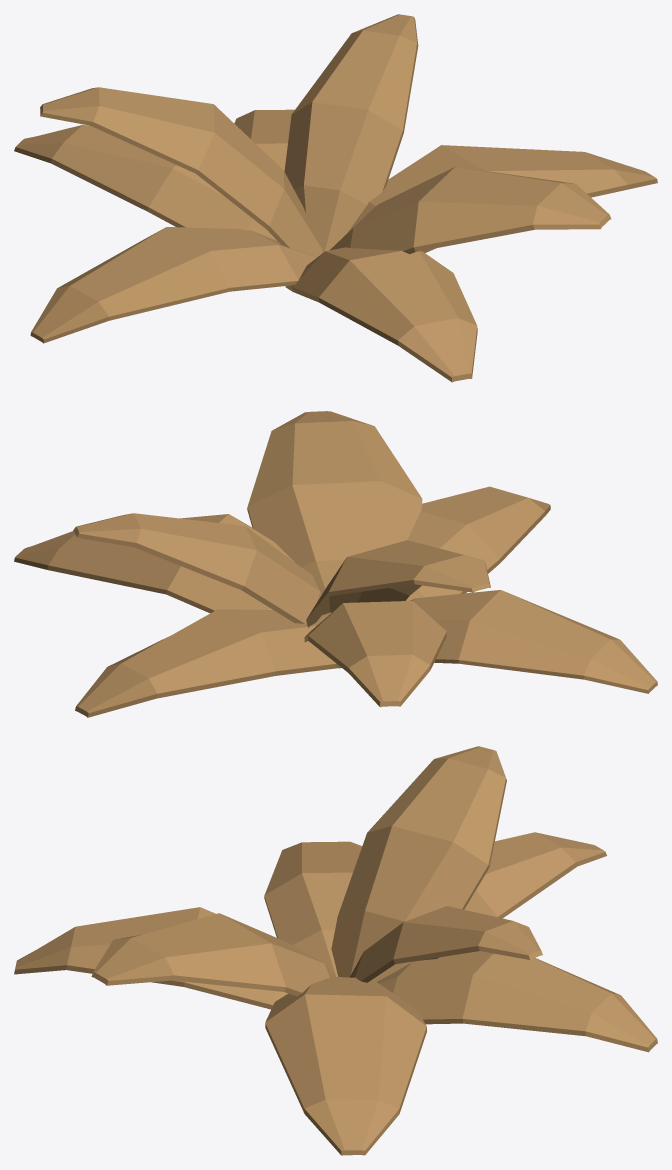
Rendered from SM_Fern_01.fbx.
3 views of the same model, one above another, from view 1: azimuth 30°, elevation 25°; view 2: azimuth 150°, elevation 25°; view 3: azimuth 270°, elevation 25° (orthographic). The views are drawn at different scales.
Parts seen in each view (by area): view 1: SM_Fern_01; view 2: SM_Fern_01; view 3: SM_Fern_01.
Boxes of the visible parts, left/top/right/bottom form: SM_Fern_01: left=14, top=14, right=657, bottom=382; SM_Fern_01: left=14, top=411, right=657, bottom=717; SM_Fern_01: left=14, top=746, right=657, bottom=1155.
Bounding box in the file's own units: 253 × 67.79 × 228.
